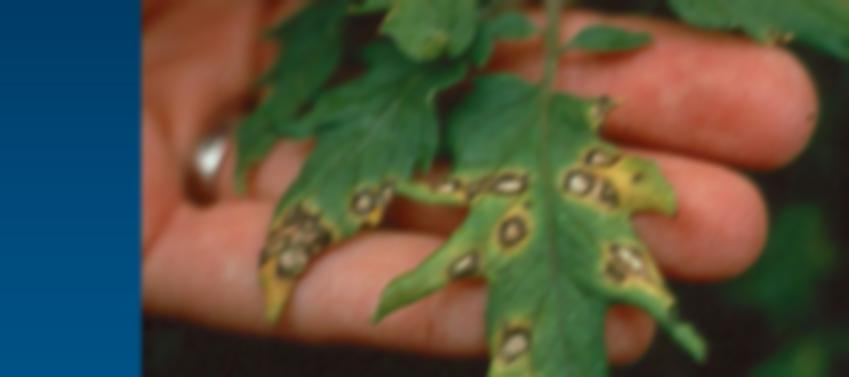Tomato Septoria leaf spot: (398, 84, 714, 377), (246, 33, 448, 327), (552, 0, 849, 77)
